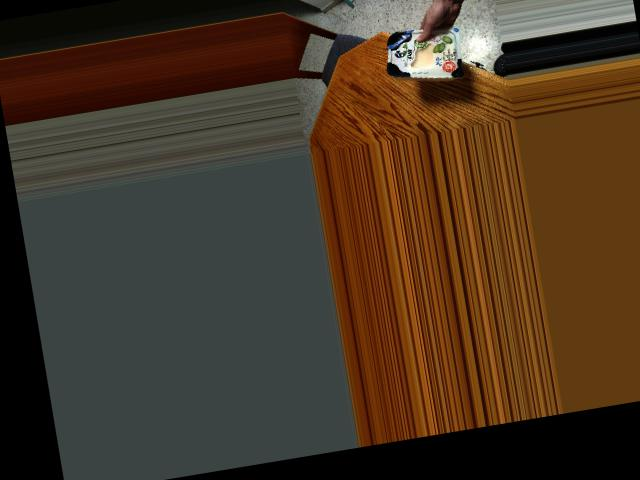cheese: (383, 25, 459, 80)
